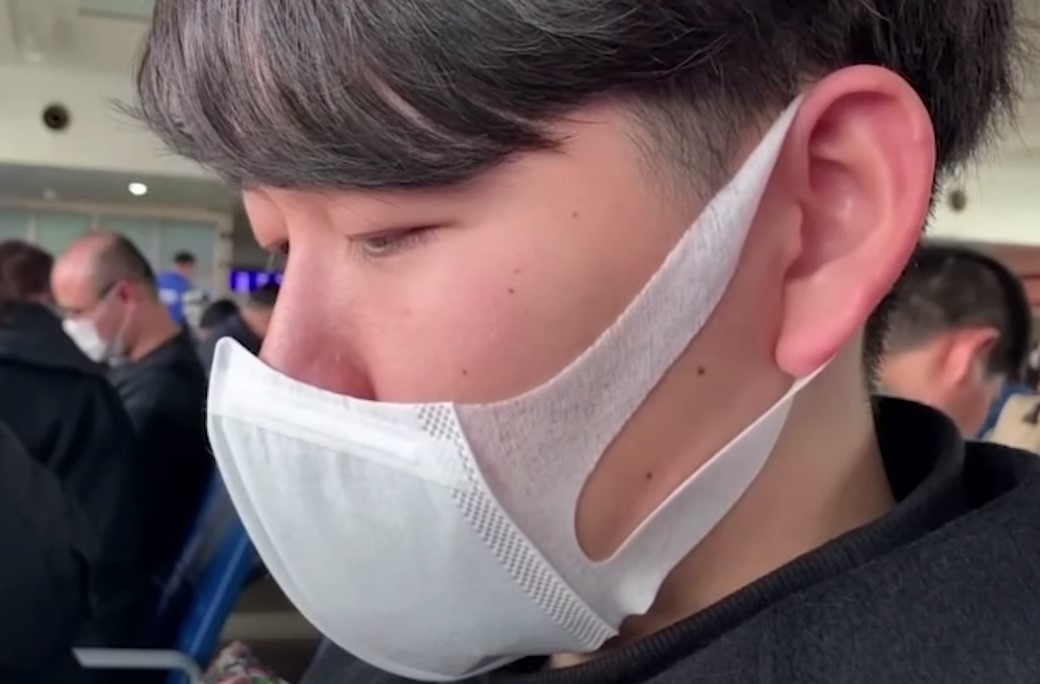face_with_mask: (185, 0, 960, 682), (47, 229, 163, 361)
